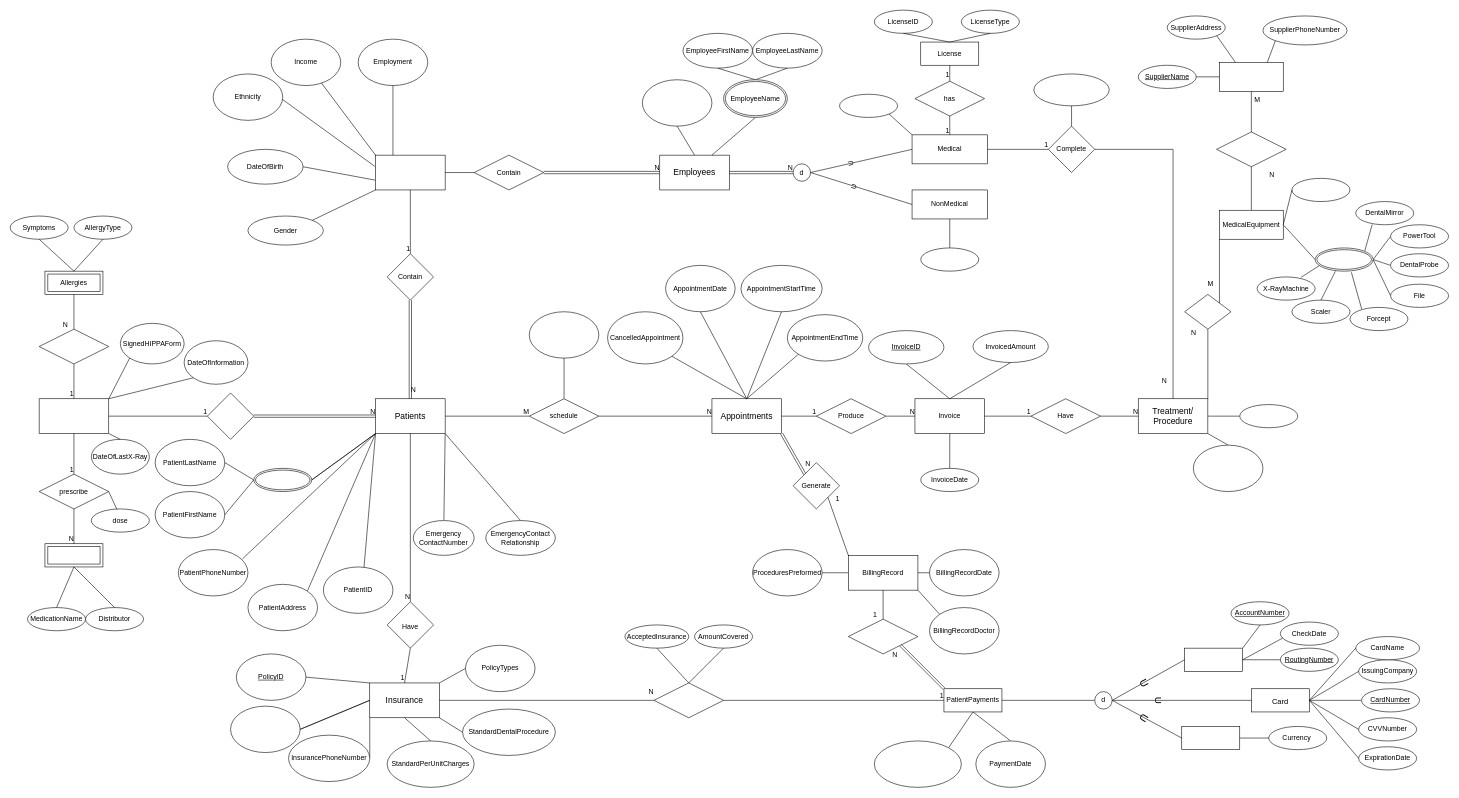
Some shapes in this 1459 by 798 pixel diagram are drawn without their labels. The centre of each missing label's shape, as x and y in pixels:
"Cash" goes at pixel 1210 738.
"Check" goes at pixel 1213 659.
"contains" goes at pixel 883 636.
"Covers" goes at pixel 688 700.
"Demographic info" goes at pixel 410 172.
"diagnoses" goes at pixel 74 346.
"EmployeeID" goes at pixel 677 102.
"EquipmentType" goes at pixel 1344 259.
"EquiptmentID" goes at pixel 1320 190.
"InsuranceCompany" goes at pixel 265 729.
"Medical History" goes at pixel 74 416.
"MedicalType" goes at pixel 868 105.
"Medication" goes at pixel 73 555.
"Occupation" goes at pixel 949 259.
"PatientName" goes at pixel 282 480.
"PatientPaymentAmount" goes at pixel 917 763.
"PerUnitCost" goes at pixel 1228 468.
"provide" goes at pixel 230 415.
"Qualifications" goes at pixel 1071 89.
"Suppliers" goes at pixel 1251 76.
"Supply" goes at pixel 1251 149.
"TreatmentType" goes at pixel 1268 416.
"Use" goes at pixel 1207 311.
"Waitlist" goes at pixel 564 334.
